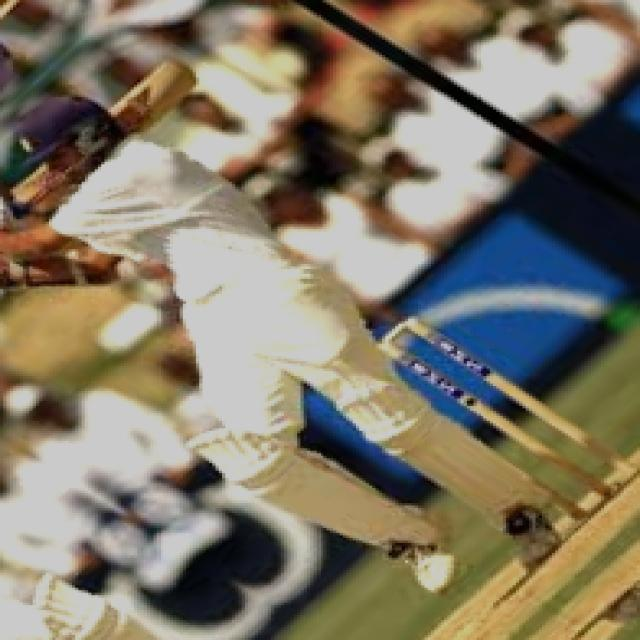toe: (165, 58, 198, 88)
